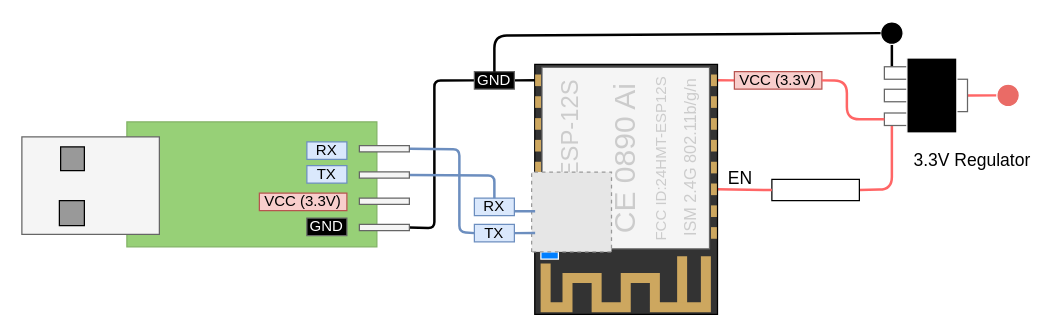
Some shapes in this 1063 by 336 pixel diagram are drawn without their labels. Grey dashed boxes stand in for pictures. The box of each missing label's shape, as (x1, y1, x2, y2) in pixels:
10k: (771, 178, 859, 201)
HT7333: (906, 57, 957, 133)
